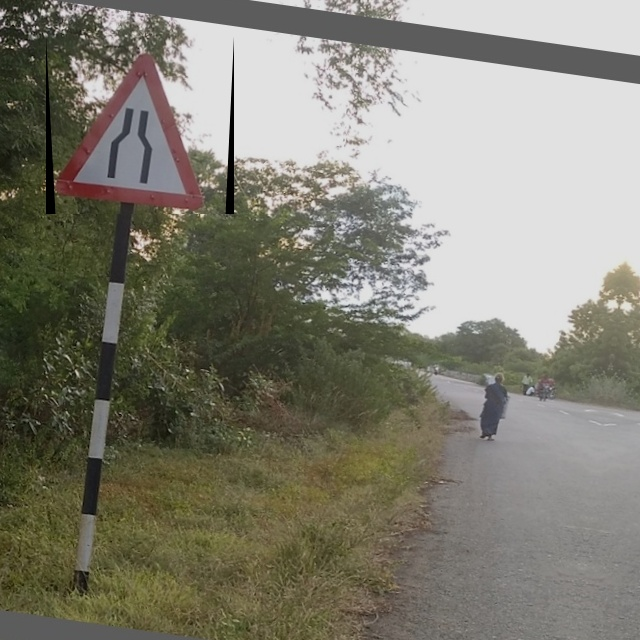Narrow_Road_Ahead: (46, 36, 234, 214)
